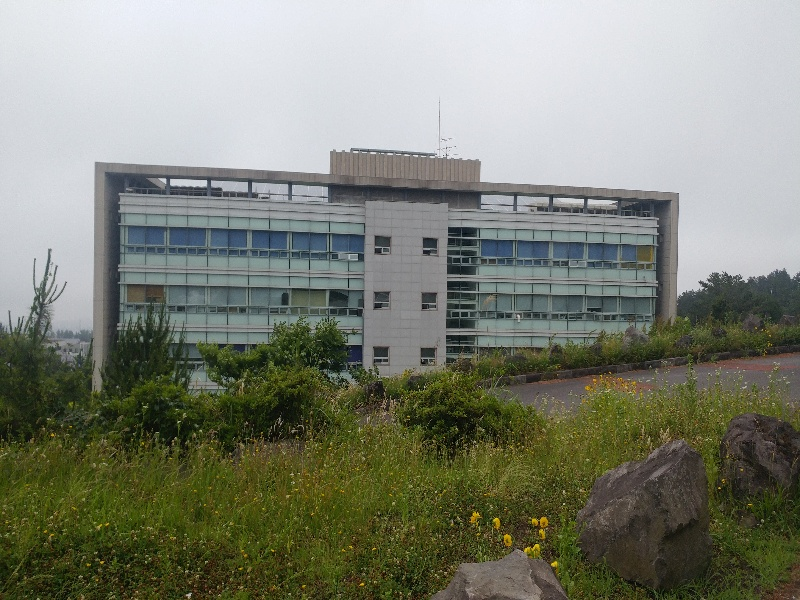College of Marine Science: (88, 118, 677, 355)
